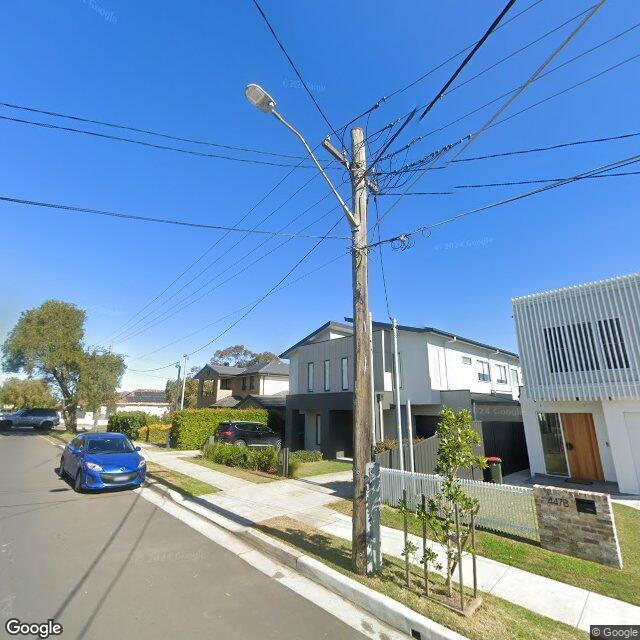crossarm: (322, 140, 381, 194)
steel-pole: (392, 317, 404, 471), (407, 400, 414, 472), (180, 355, 188, 410)
streetlight: (246, 83, 360, 230)
timber-pole: (350, 128, 383, 575)
